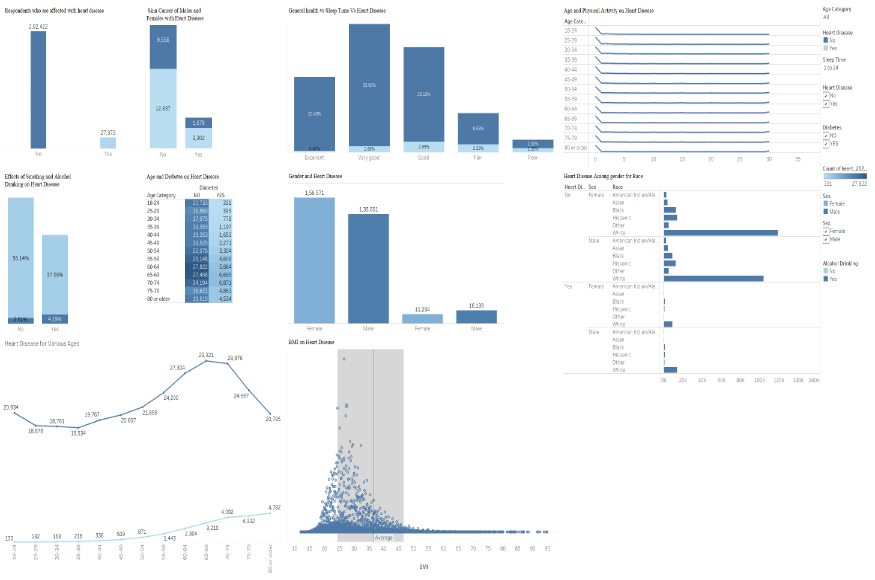

The dashboard page shown, as its layout file describes it:
{"tool":"tableau","page":{"name":"Dashboard 1","canvas":[2904,1518],"ordinal":0},"visuals":[{"type":"worksheet","title":"Patients Respondent with Heart Disease","mark":"Pie","box":[8,8,471.8,375.5]},{"type":"worksheet","title":"Skin Cancer of Males and Females with Heart Disease","mark":"Automatic","rows":["heart_2020_cleaned.csv_15D76FAD66144C0A84DDDE2AADF40BE3"],"cols":["SkinCancer"],"box":[479.8,8,277.2,750.9]},{"type":"worksheet","title":"General health vs Sleep Time Vs Heart Disease","mark":"Automatic","rows":["heart_2020_cleaned.csv_708ACFD3289D48FBBA653B6D62C9A0FB"],"cols":["GenHealth"],"box":[757,8,1277.7,751]},{"type":"worksheet","title":"Age and Physical Activity on Heart Disease","mark":"Automatic","rows":["AgeCategory","heart_2020_cleaned.csv_708ACFD3289D48FBBA653B6D62C9A0FB"],"cols":["PhysicalHealth"],"box":[2034.7,8,701.3,750.9]},{"type":"filter","title":"Heart Disease for Various Ages","param":"[federated.0jg5vue1i5yfqn14z2m1t0i6d2w7 (copy)].[none:AgeCategory:nk]","box":[2736,8,160,70]},{"type":"legend","title":"Heart Disease for Various Ages","param":"[federated.0jg5vue1i5yfqn14z2m1t0i6d2w7 (copy)].[none:HeartDisease:nk]","box":[2736,78,160,84]},{"type":"filter","title":"General health vs Sleep Time Vs Heart Disease","param":"[federated.0jg5vue1i5yfqn14z2m1t0i6d2w7 (copy 3)].[none:SleepTime:qk]","box":[2736,162,160,77]},{"type":"filter","title":"Age and Physical Activity on Heart Disease","param":"[federated.0jg5vue1i5yfqn14z2m1t0i6d2w7 (copy 4)].[none:HeartDisease:nk]","box":[2736,239,160,121]},{"type":"filter","title":"Age and Diabetes on Heart Disease","param":"[federated.0jg5vue1i5yfqn14z2m1t0i6d2w7 (copy 11)].[none:Calculation_18947488306","box":[2736,360,160,121]},{"type":"worksheet","title":"Effects of Smoking and Alcohol Drinking on Heart Disease ","mark":"Automatic","rows":["heart_2020_cleaned.csv_15D76FAD66144C0A84DDDE2AADF40BE3"],"cols":["Smoking"],"box":[8,383.5,471.8,375.5]},{"type":"legend","title":"Age and Diabetes on Heart Disease","param":"[federated.0jg5vue1i5yfqn14z2m1t0i6d2w7 (copy 11)].[__tableau_internal_object_id","box":[2736,481,160,81]},{"type":"legend","title":"Gender and Heart Disease","param":"[federated.0jg5vue1i5yfqn14z2m1t0i6d2w7 (copy 8)].[none:Sex:nk]","box":[2736,562,160,84]},{"type":"filter","title":"Heart Disease Among gender for Race","param":"[federated.0jg5vue1i5yfqn14z2m1t0i6d2w7 (copy 5)].[none:Sex:nk]","box":[2736,646,160,121]},{"type":"worksheet","title":"Heart Disease for Various Ages","mark":"Line","rows":["heart_2020_cleaned.csv_EAD28118ECA243C8BCEF1B7195E8AB9B"],"cols":["AgeCategory"],"box":[8,758.9,749,751.1]},{"type":"worksheet","title":"Age and Diabetes on Heart Disease","mark":"Square","rows":["AgeCategory"],"cols":["Calculation_1894748830619746304"],"box":[2034.7,758.9,701.3,375.5]},{"type":"worksheet","title":"Heart Disease Among gender for Race","mark":"Automatic","rows":["HeartDisease","Sex","Race"],"cols":["heart_2020_cleaned.csv_EAD28118ECA243C8BCEF1B7195E8AB9B"],"box":[757,759,1277.7,375.5]},{"type":"legend","title":"Effects of Smoking and Alcohol Drinking on Heart Disease ","param":"[federated.0jg5vue1i5yfqn14z2m1t0i6d2w7 (copy 10)].[none:AlcoholDrinking:nk]","box":[2736,767,160,84]},{"type":"worksheet","title":"BMI on Heart Disease","mark":"Shape","rows":["heart_2020_cleaned.csv_708ACFD3289D48FBBA653B6D62C9A0FB"],"cols":["BMI"],"box":[757,1134.5,1277.7,375.5]},{"type":"worksheet","title":"Gender and Heart Disease","mark":"Pie","box":[2034.7,1134.5,701.3,375.5]}]}

Visuals, with their boxes on the page's 2904x1518 design canvas (x1, y1, x2, y2). These are canvas units, not pixel positions in the 875x580 screenshot, which may show the page scaled, cropped or inside an application window:
"Patients Respondent with Heart Disease" worksheet (Pie marks): (8,8,480,384)
"Skin Cancer of Males and Females with Heart Disease" worksheet: (480,8,757,759)
"General health vs Sleep Time Vs Heart Disease" worksheet: (757,8,2035,759)
"Age and Physical Activity on Heart Disease" worksheet: (2035,8,2736,759)
"Heart Disease for Various Ages" filter: (2736,8,2896,78)
"Heart Disease for Various Ages" legend: (2736,78,2896,162)
"General health vs Sleep Time Vs Heart Disease" filter: (2736,162,2896,239)
"Age and Physical Activity on Heart Disease" filter: (2736,239,2896,360)
"Age and Diabetes on Heart Disease" filter: (2736,360,2896,481)
"Effects of Smoking and Alcohol Drinking on Heart Disease " worksheet: (8,384,480,759)
"Age and Diabetes on Heart Disease" legend: (2736,481,2896,562)
"Gender and Heart Disease" legend: (2736,562,2896,646)
"Heart Disease Among gender for Race" filter: (2736,646,2896,767)
"Heart Disease for Various Ages" worksheet (Line marks): (8,759,757,1510)
"Age and Diabetes on Heart Disease" worksheet (Square marks): (2035,759,2736,1134)
"Heart Disease Among gender for Race" worksheet: (757,759,2035,1134)
"Effects of Smoking and Alcohol Drinking on Heart Disease " legend: (2736,767,2896,851)
"BMI on Heart Disease" worksheet (Shape marks): (757,1134,2035,1510)
"Gender and Heart Disease" worksheet (Pie marks): (2035,1134,2736,1510)
